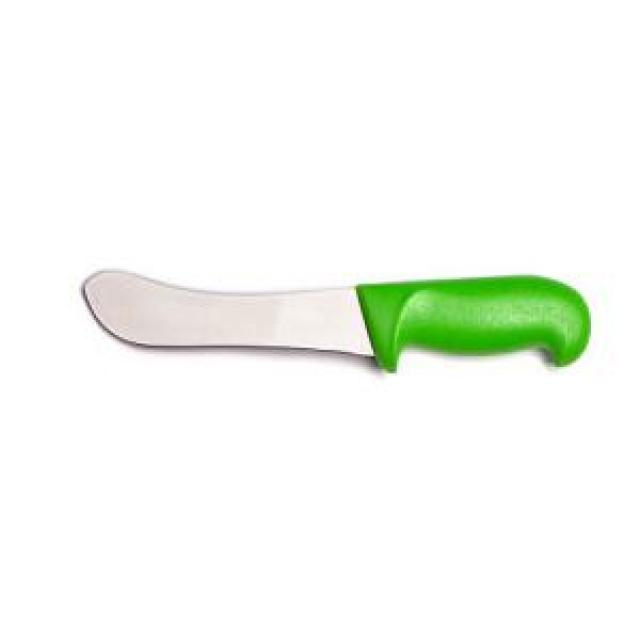knife: (81, 273, 596, 381)
